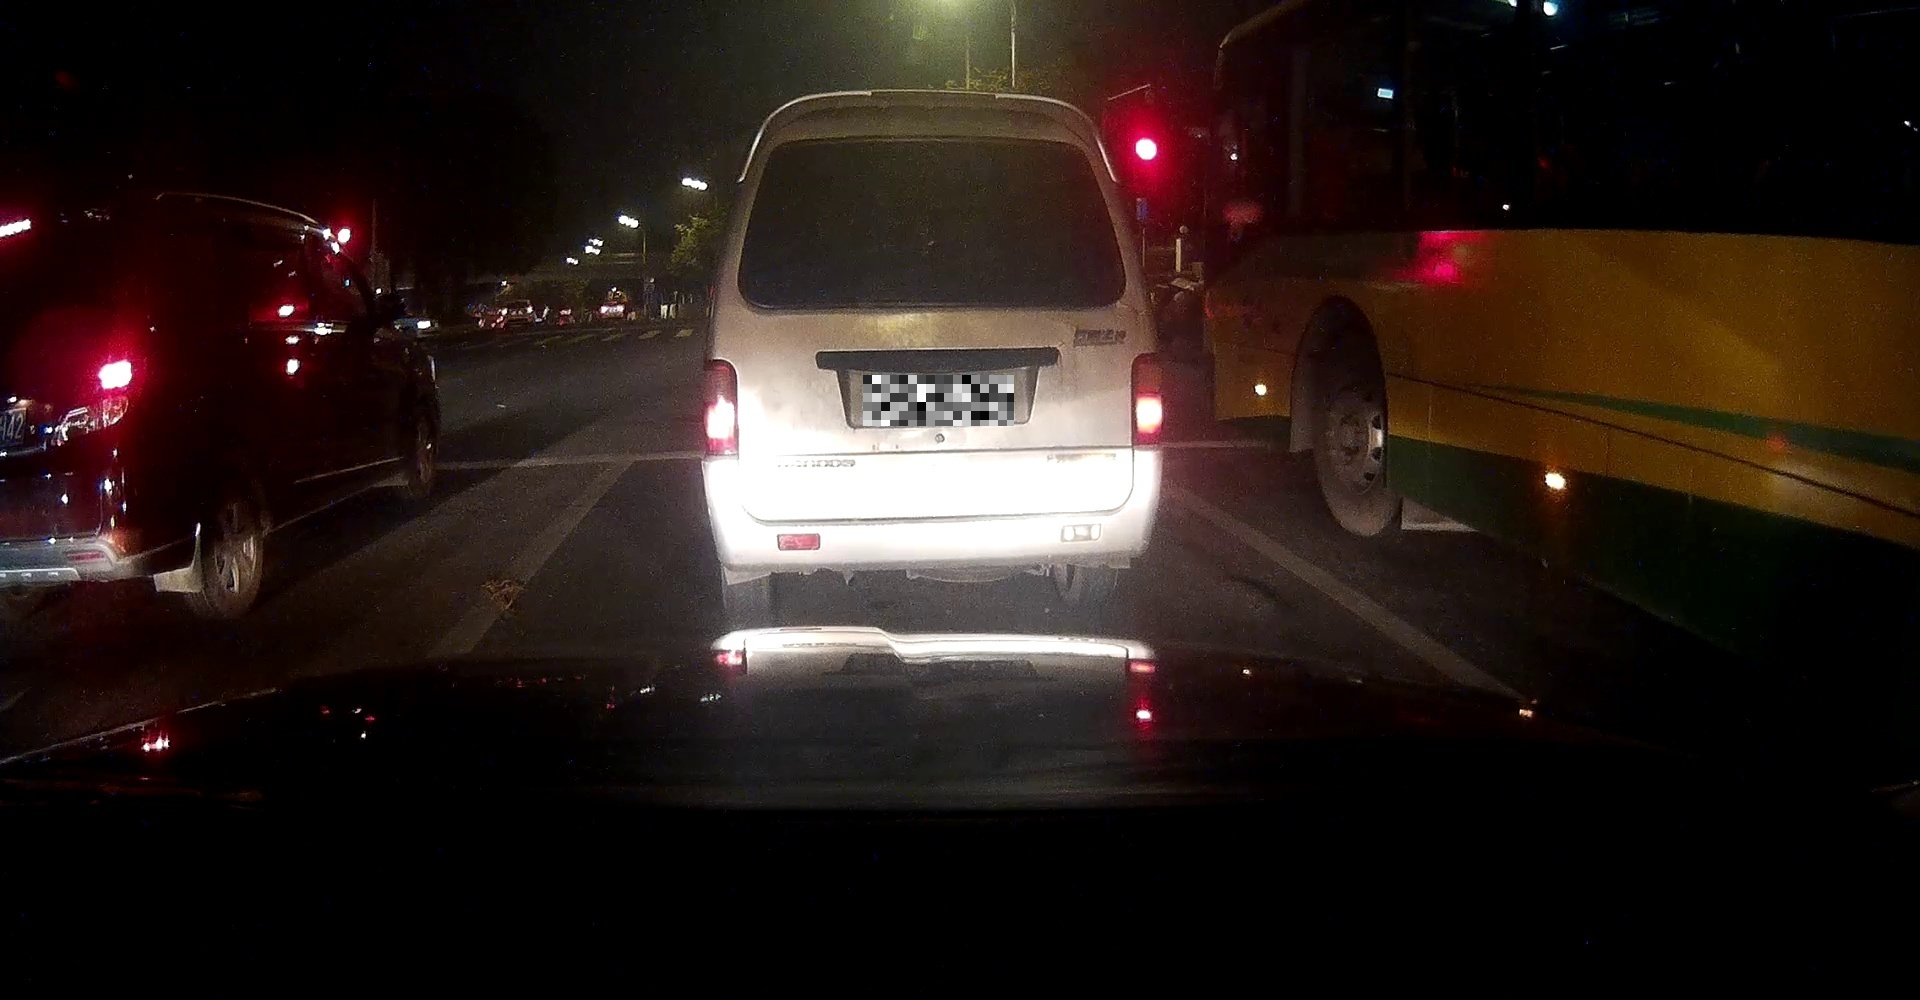L_light: (701, 358, 740, 458)
R_light: (1130, 352, 1164, 445)
T_light: (898, 127, 959, 146)
night-no: (698, 86, 1167, 629)
plate_1: (863, 376, 1015, 426)
